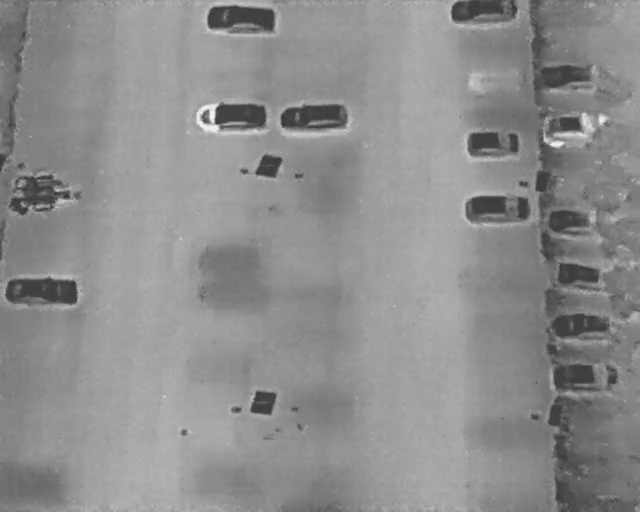Car: (278, 99, 350, 132), (195, 101, 267, 132), (5, 277, 79, 307), (206, 5, 277, 36), (552, 311, 616, 342), (466, 193, 531, 223), (552, 362, 619, 391), (555, 261, 611, 292), (452, 1, 518, 25), (467, 129, 521, 158), (548, 113, 601, 142), (541, 65, 597, 92), (550, 207, 603, 234)
